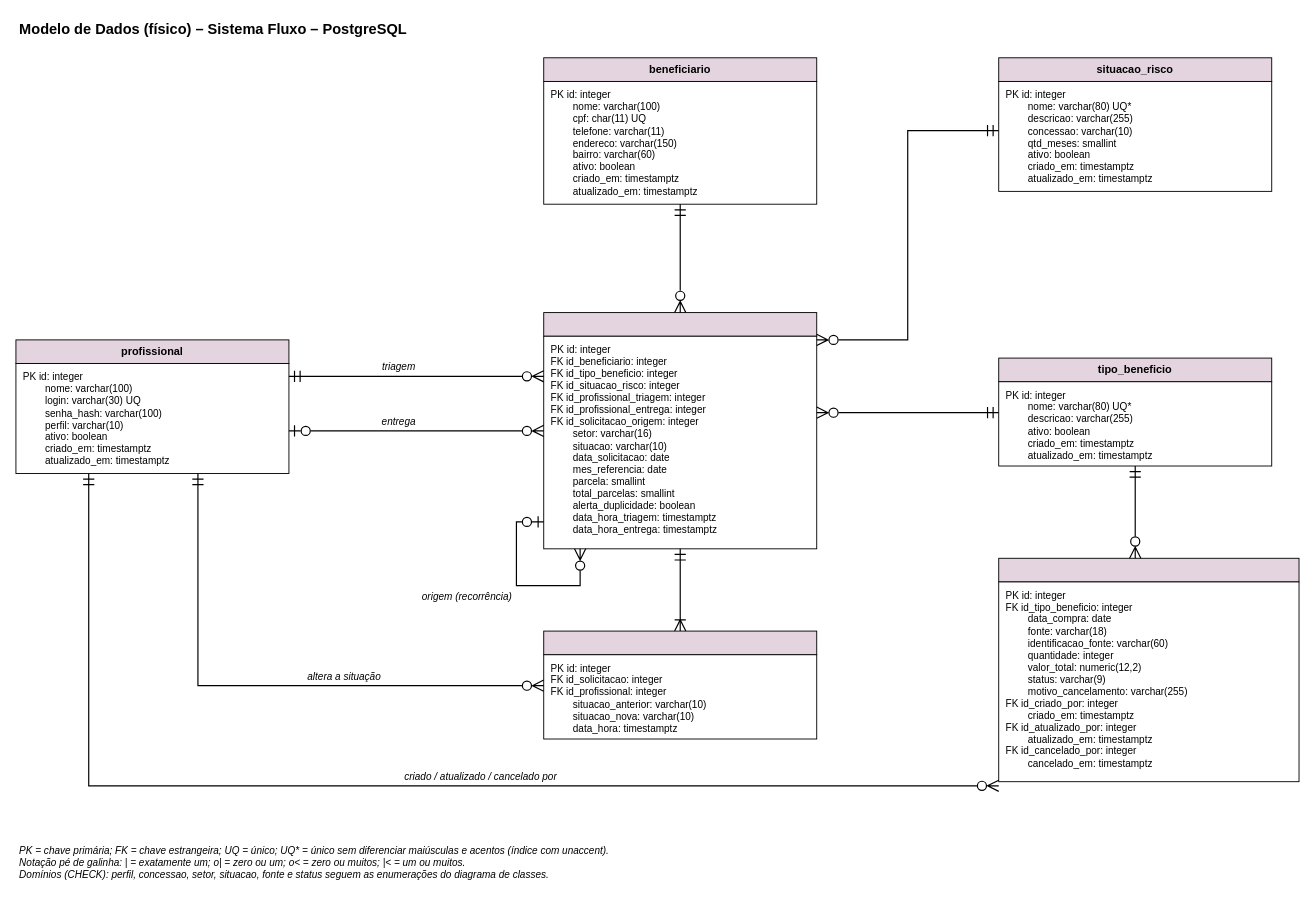
This 1315x910 diagram has some shape labels left out. The centre of each missing label's shape, as x and y in pixels:
"aquisicao" goes at point 1148,569.
"historico_situacao" goes at point 680,642.
"solicitacao" goes at point 680,324.
